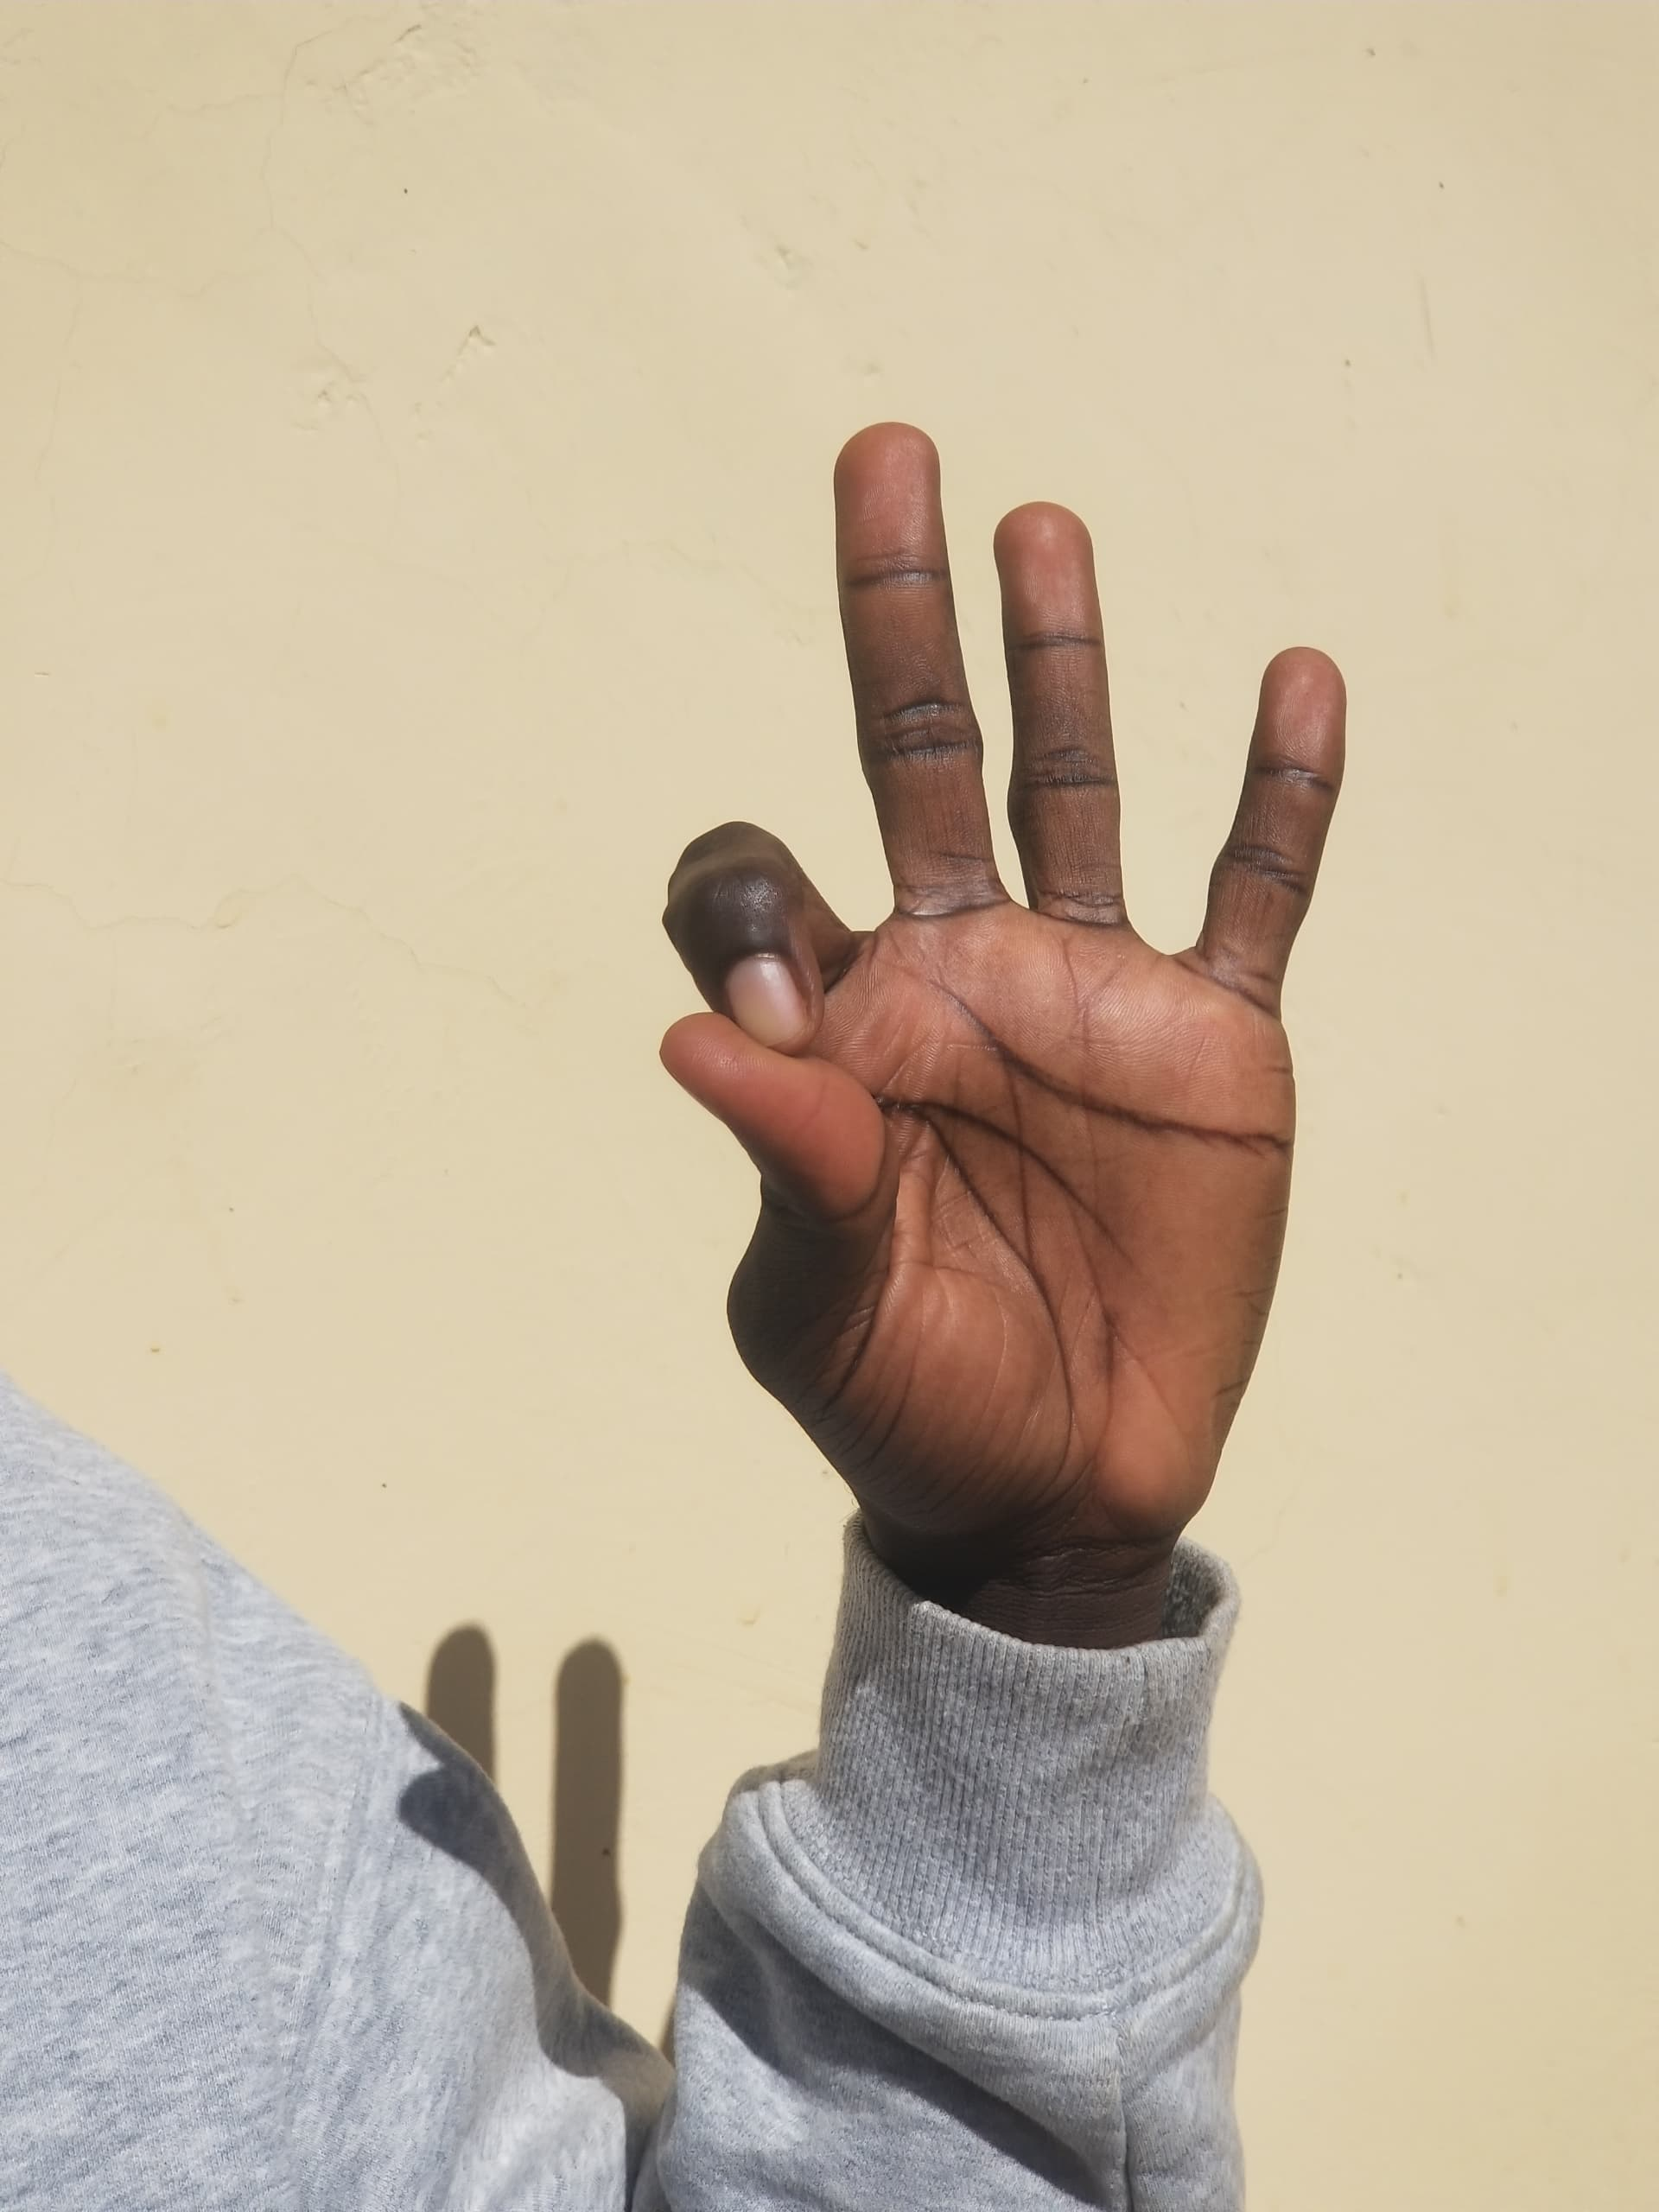okay: (551, 345, 1415, 1665)
